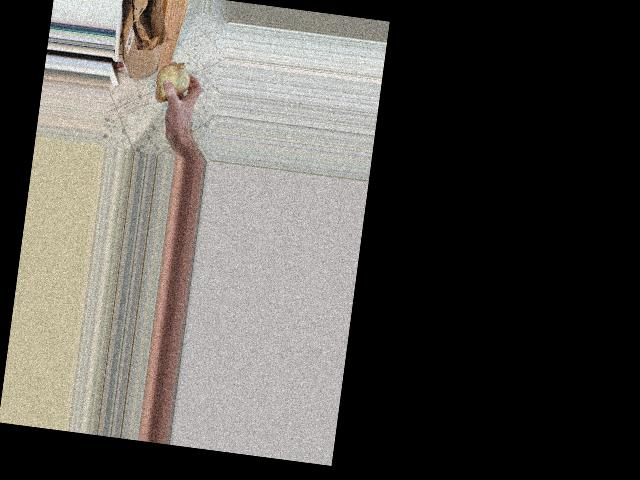onion: (150, 57, 196, 107)
